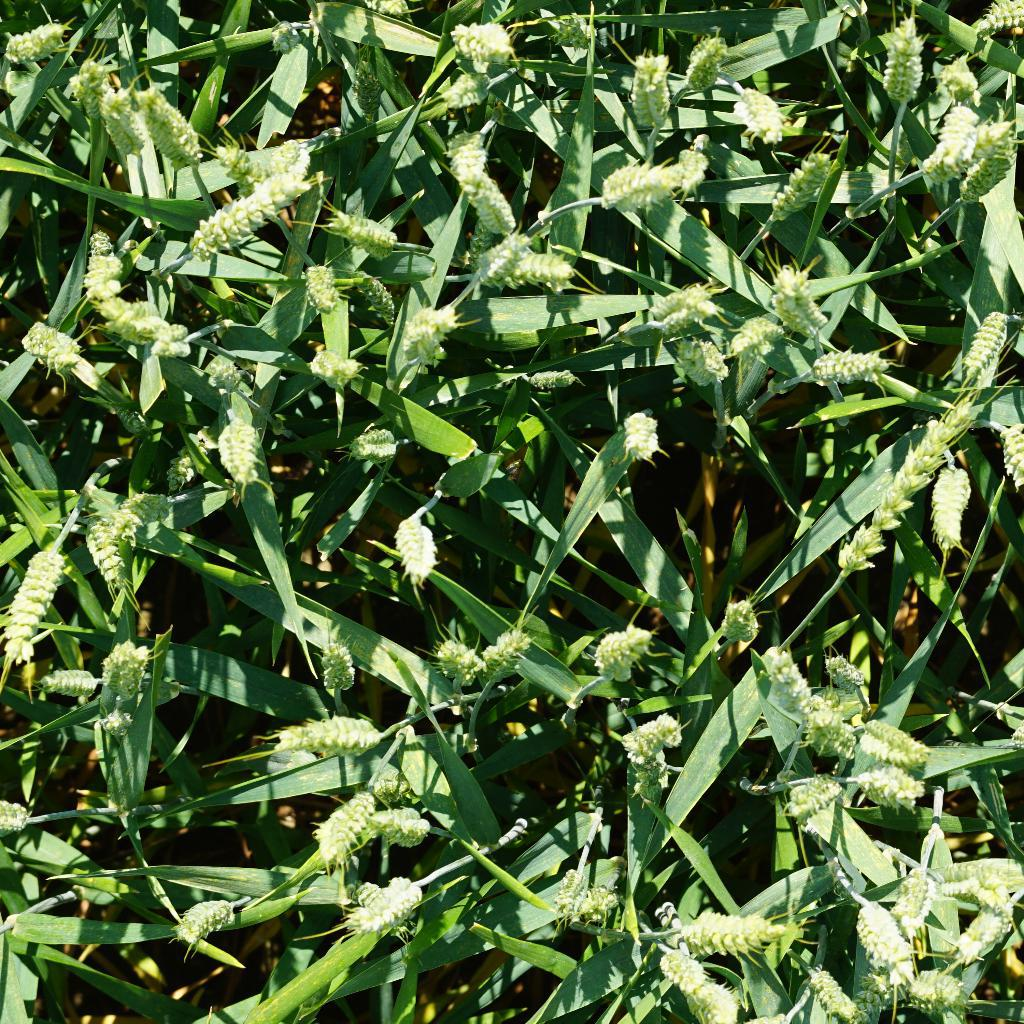0-0: (819, 406, 983, 587), (163, 181, 311, 259), (0, 530, 71, 658), (847, 890, 925, 996), (660, 890, 793, 952), (124, 86, 212, 176), (613, 48, 695, 139), (75, 509, 149, 606), (201, 388, 268, 493), (925, 848, 1023, 919), (718, 75, 811, 148), (85, 296, 202, 354), (565, 153, 677, 213), (920, 100, 1001, 182), (610, 701, 690, 784), (344, 869, 436, 940), (802, 322, 894, 391), (927, 456, 982, 567), (641, 269, 728, 339), (769, 953, 859, 1017), (381, 501, 447, 586), (89, 629, 159, 709), (765, 141, 833, 223), (251, 710, 387, 751), (384, 294, 456, 370), (770, 262, 840, 340), (591, 610, 657, 690), (877, 15, 931, 112), (3, 23, 103, 75), (672, 26, 750, 92), (956, 296, 1019, 377), (302, 773, 369, 849), (946, 897, 1024, 960), (321, 204, 410, 257), (858, 714, 942, 770), (905, 959, 986, 1016), (438, 124, 511, 187), (73, 242, 146, 305), (160, 892, 242, 948), (23, 316, 93, 380), (960, 139, 1024, 209), (335, 64, 391, 144), (669, 331, 743, 391), (215, 145, 284, 209), (885, 862, 938, 945), (639, 949, 725, 998), (97, 79, 149, 160), (344, 262, 406, 328), (451, 22, 527, 75), (470, 235, 531, 301), (310, 635, 372, 699), (706, 590, 765, 657), (358, 755, 434, 806), (21, 661, 101, 709), (772, 768, 847, 818), (287, 346, 376, 388), (436, 66, 507, 118), (336, 415, 407, 466), (773, 635, 821, 710), (856, 763, 935, 807), (673, 980, 752, 1023), (365, 804, 440, 849), (290, 253, 347, 311), (105, 485, 180, 529), (612, 404, 667, 464), (934, 55, 991, 111), (432, 624, 479, 691), (807, 706, 862, 762), (481, 630, 534, 686), (996, 414, 1024, 520), (71, 51, 112, 120), (822, 647, 884, 692), (466, 180, 519, 232), (720, 305, 781, 350), (545, 862, 592, 920), (264, 137, 316, 189), (163, 436, 208, 496), (545, 11, 603, 54), (968, 0, 1024, 41), (572, 881, 626, 923), (511, 364, 588, 393), (103, 396, 151, 436), (0, 793, 37, 841), (267, 18, 306, 56), (96, 706, 135, 737)
